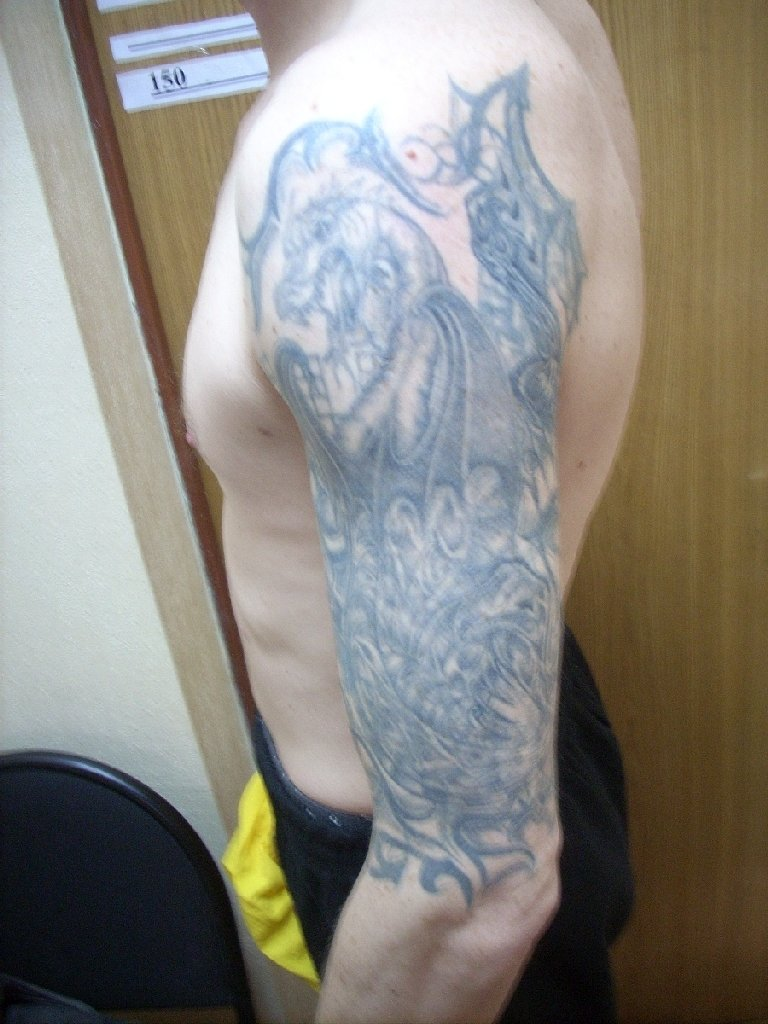tatu6_drakon: (188, 27, 681, 923)
